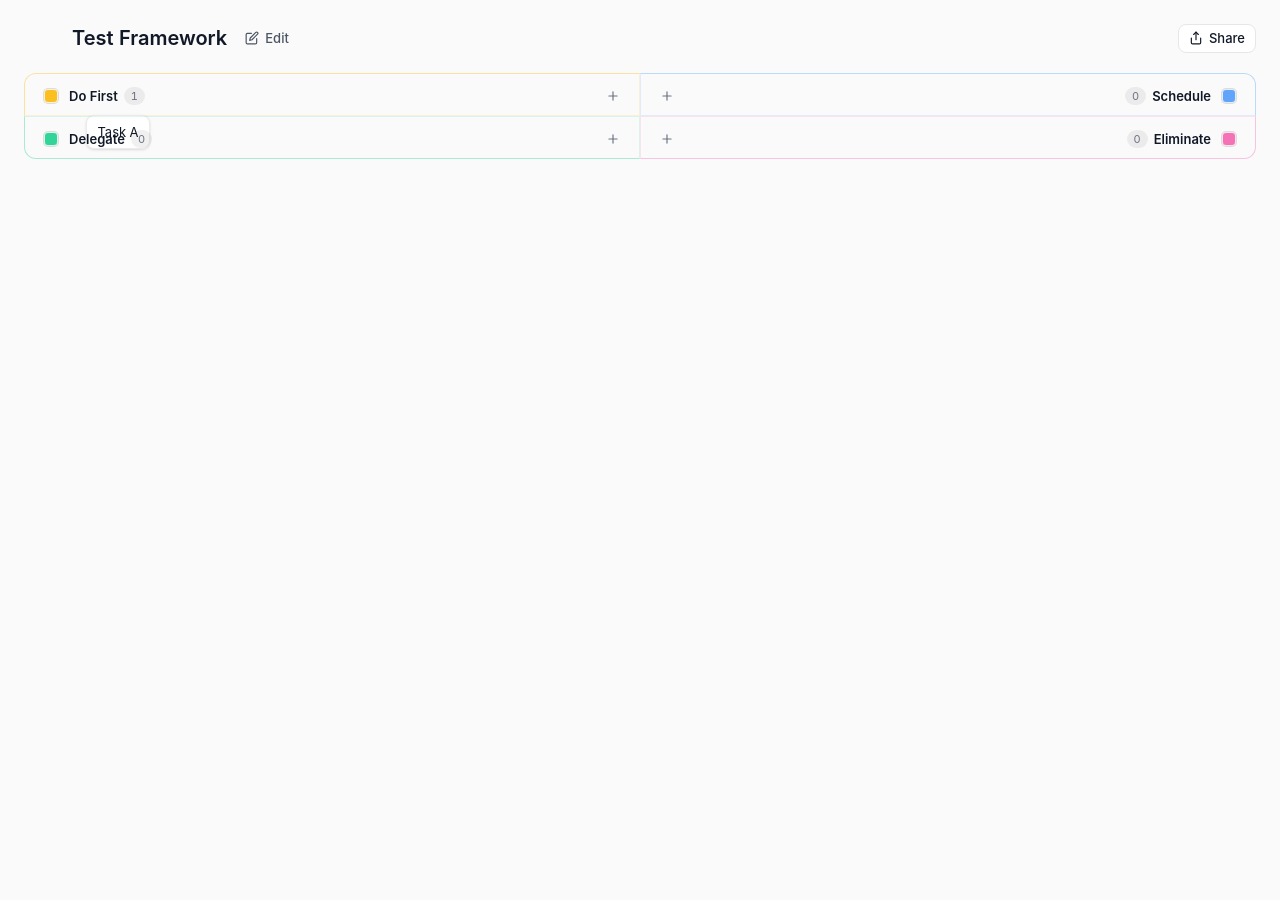
QuadrantCanvas — item editing routed through EditModal (IMPRV-006) › adds through the modal: nothing persists until Save
Step 1. Click the button named "add item to schedule" → (667, 96), box [655,84,679,108]
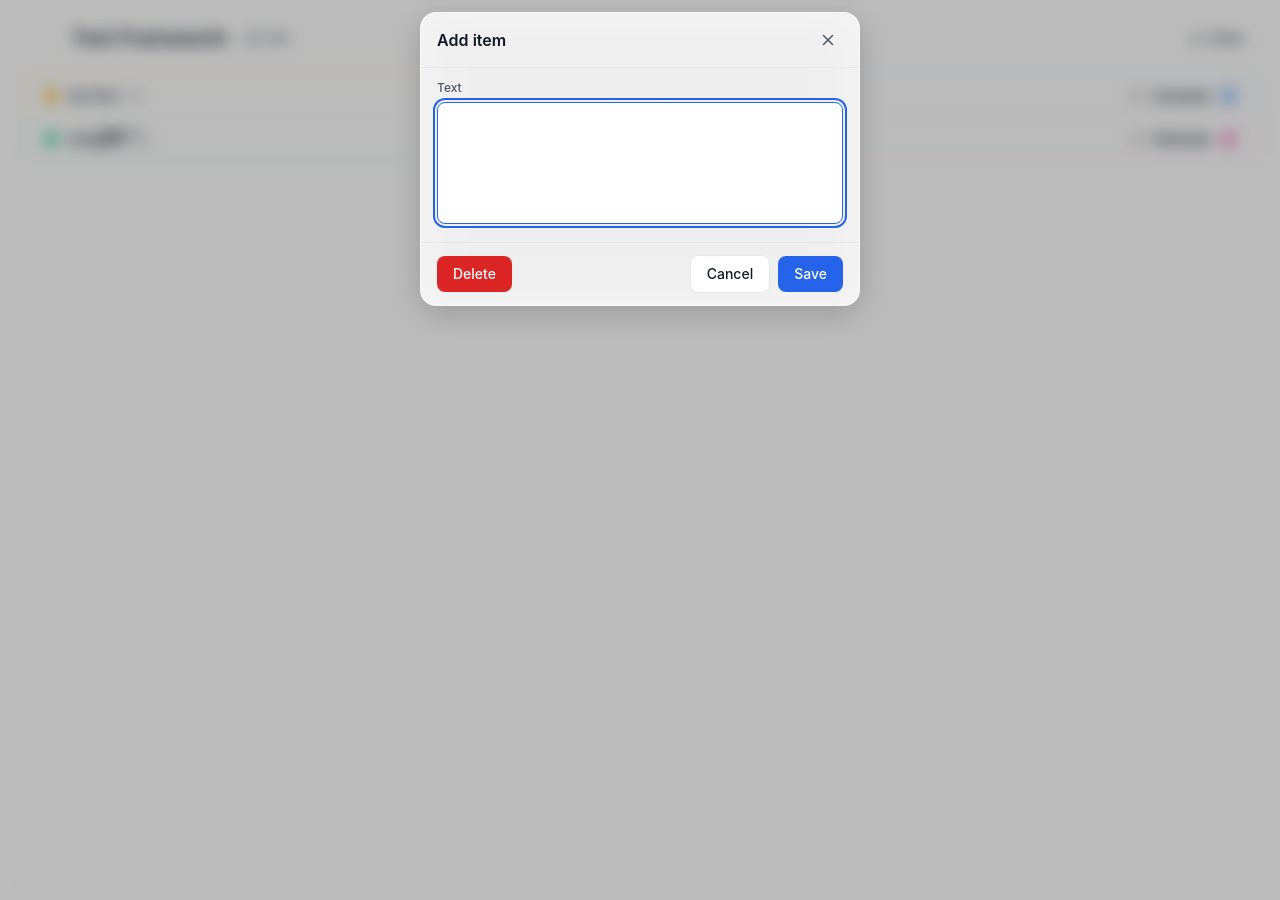
Expected: the dialog "Add item" is shown, [420,12,860,306]
Step 2. Type "Prep roadmap" into the text box → (640, 163), box [437,102,843,224]
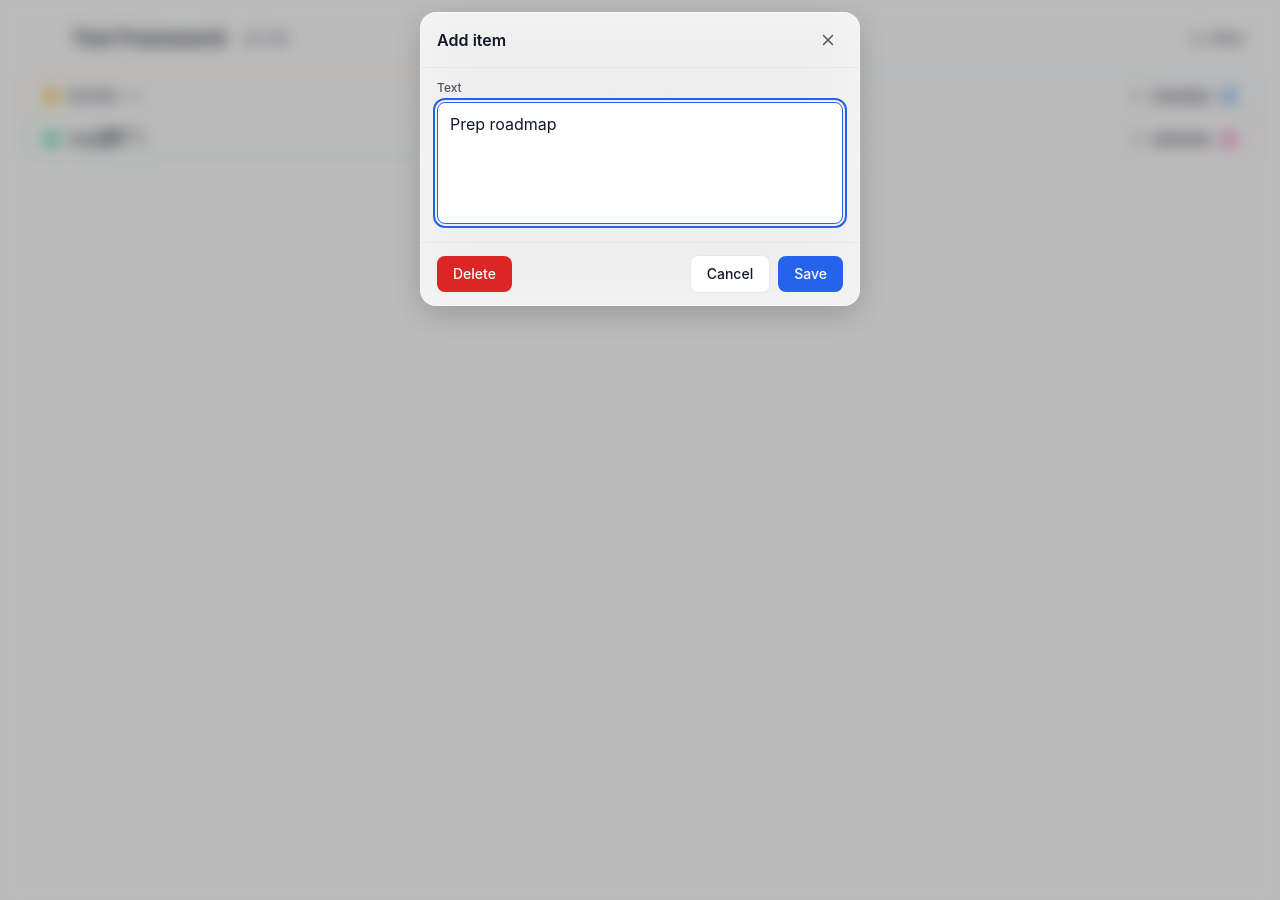
Step 3. Click the button "Save" → (811, 274), box [778,256,843,292]
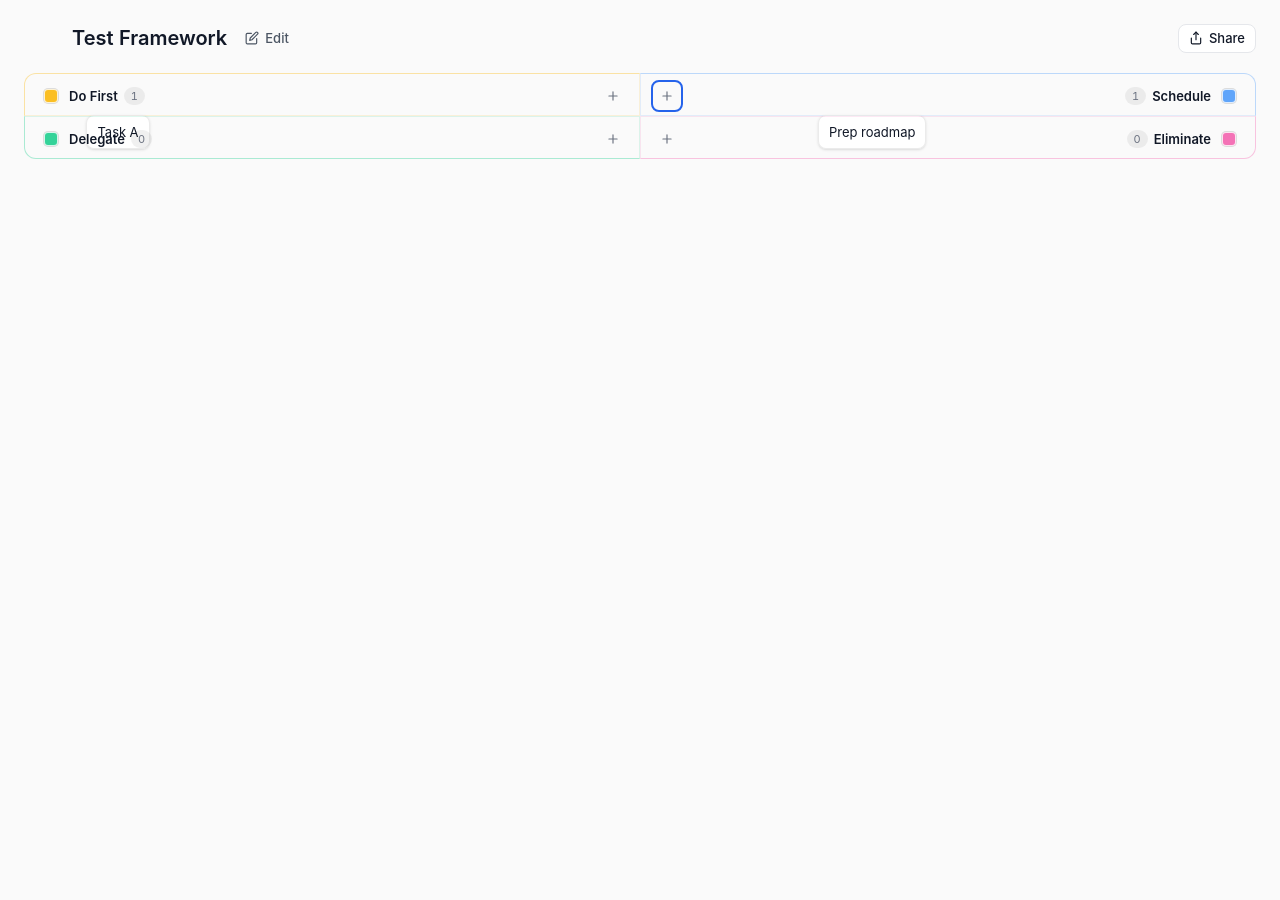
Expected: the button "Prep roadmap" is shown, [829,123,916,141]
